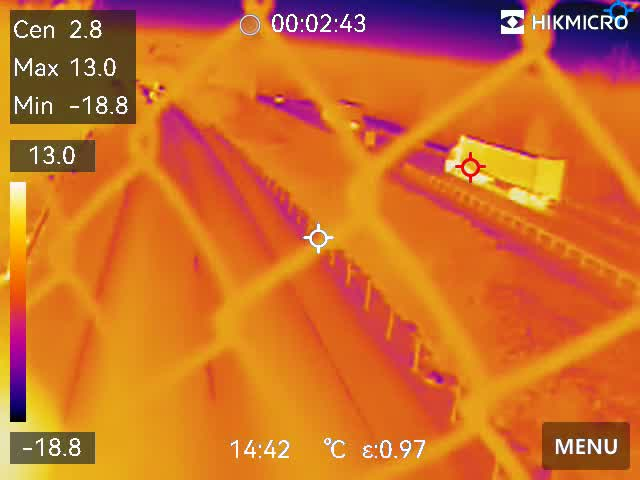heavyTruck: (444, 127, 566, 205)
vehicle: (267, 92, 283, 106)
